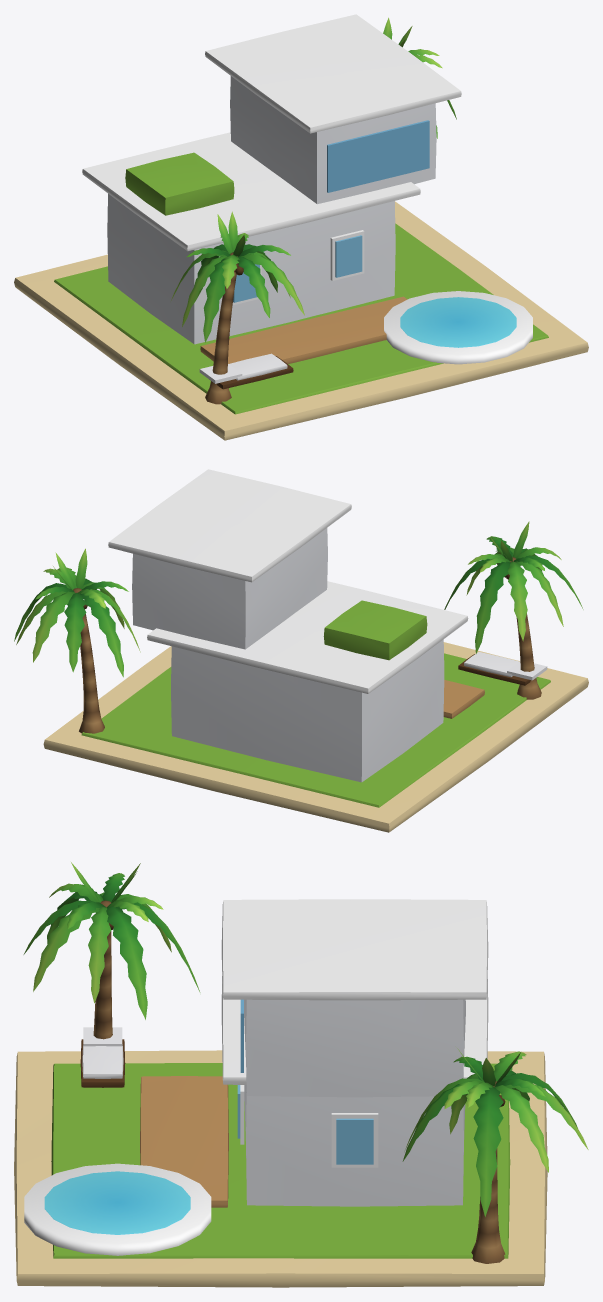
Rendered from Villa.obj.
3 views of the same model, one above another, from view 1: azimuth 30°, elevation 25°; view 2: azimuth 150°, elevation 25°; view 3: azimuth 270°, elevation 25° (orthographic). The views are drawn at different scales.
Parts seen in each view (by area): view 1: Villa; view 2: Villa; view 3: Villa.
Boxes of the visible parts, x1,y1,x2,y2 form: Villa: [14, 14, 588, 440]; Villa: [14, 469, 588, 832]; Villa: [14, 862, 588, 1287].
Bounding box in the file's own units: 4.18 × 2.02 × 3.88.
Materials: 1 (1 with a texture image).
